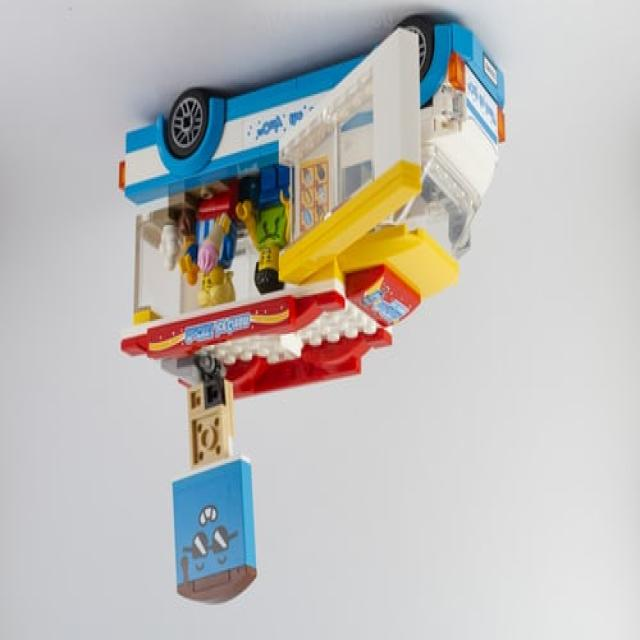Car: (116, 14, 507, 608)
